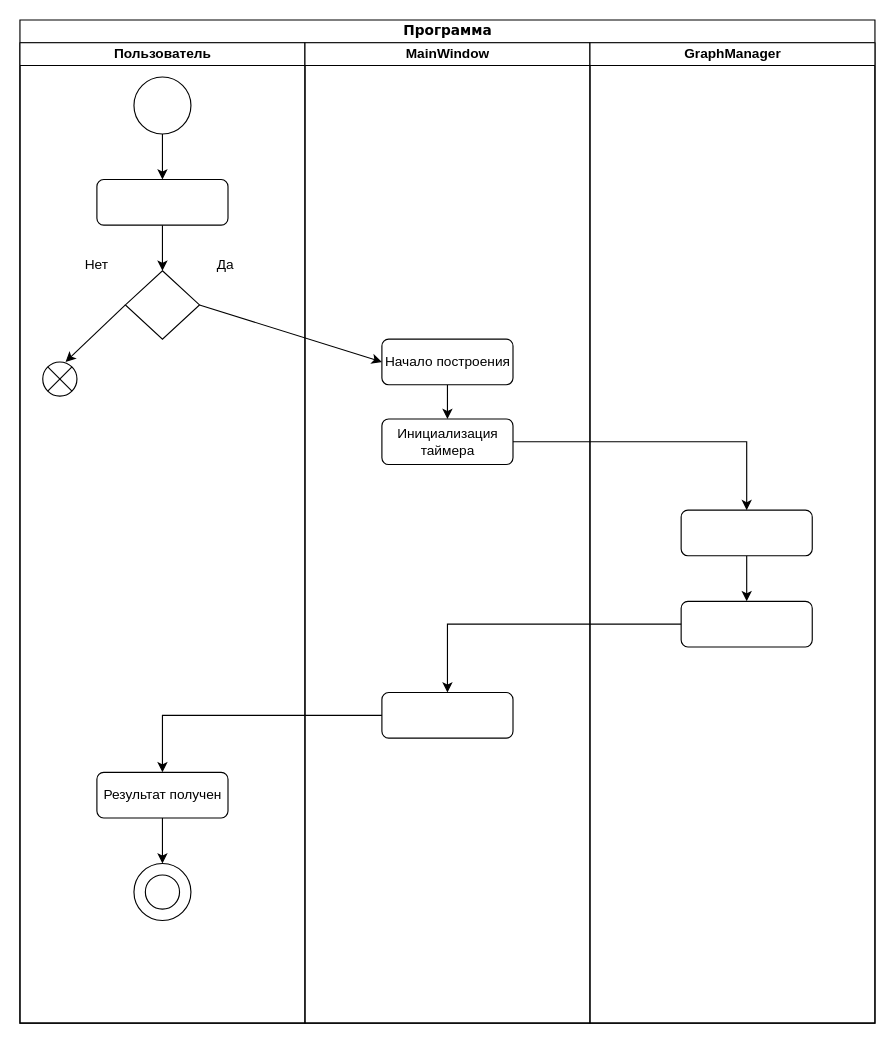
Image size: 895x1043. Some labels were removed from this diagram. The centre of each missing label's shape, as x and y in pixels:
График: the point at 447,714
Добавление точек графика: the point at 746,532
Отображение графика: the point at 746,623
Построить график: the point at 162,201
